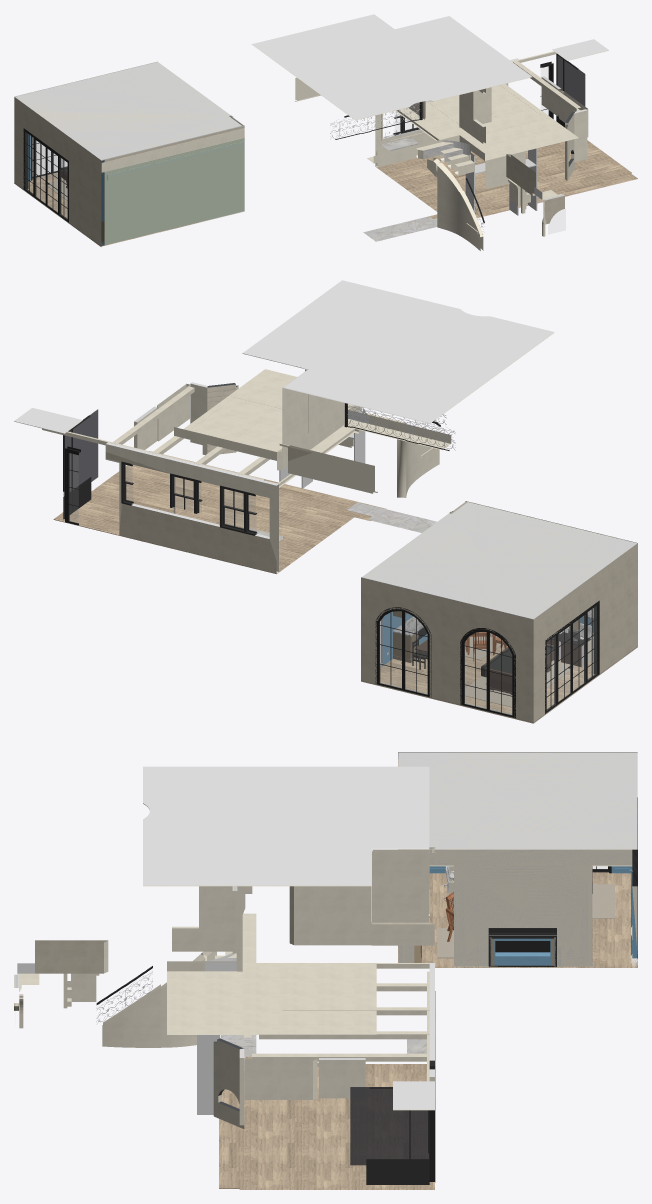
The model's file is game-room-cea6931e44c4.glb.
The picture shows the model from 3 angles, top to bottom: view 1: azimuth 30°, elevation 25°; view 2: azimuth 150°, elevation 25°; view 3: azimuth 270°, elevation 25°; orthographic projection. The views are drawn at different scales.
Visible parts, largest first — view 1: game-room-look-9d91b47435c6fb33, game-room-4a969f5cc1ae3dfe, game-room-30c5953c9ad73e5d, game-room-look-3b0077416469e01b, game-room-look-2575515a05775d9e, game-room-039192b0560cfac3, game-room-50d54560d247b537, game-room-9fbf623a647a21dd, game-room-look-8c6a7019fd0063e7, game-room-2575515a05775d9e, game-room-look-bfb9fa537cd11d1d, game-room-3b0077416469e01b (+18 smaller); view 2: game-room-look-9d91b47435c6fb33, game-room-4a969f5cc1ae3dfe, game-room-look-3b0077416469e01b, game-room-969b861f9850351e, game-room-look-bfb9fa537cd11d1d, game-room-039192b0560cfac3, game-room-look-2575515a05775d9e, game-room-50d54560d247b537, game-room-67b6630d0fa028c8, game-room-b7bc8997c06ae95e, game-room-9fbf623a647a21dd, game-room-3b0077416469e01b (+18 smaller); view 3: game-room-look-9d91b47435c6fb33, game-room-4a969f5cc1ae3dfe, game-room-look-3b0077416469e01b, game-room-3e6709f91b43c3bf, game-room-look-2575515a05775d9e, game-room-50d54560d247b537, game-room-55ff1dfd7b659ec1, game-room-look-69af8f587252f9fa, game-room-look-cbd4bf73d9724a66, game-room-3b0077416469e01b, game-room-look-32b959c9aa406288, game-room-look-8c6a7019fd0063e7 (+21 smaller).
Part boxes in pixels (bbox=[...]): game-room-look-9d91b47435c6fb33: bbox=[251, 14, 531, 120]; game-room-4a969f5cc1ae3dfe: bbox=[14, 62, 242, 160]; game-room-30c5953c9ad73e5d: bbox=[104, 126, 244, 245]; game-room-look-3b0077416469e01b: bbox=[375, 140, 637, 218]; game-room-look-2575515a05775d9e: bbox=[367, 84, 578, 163]; game-room-039192b0560cfac3: bbox=[14, 97, 104, 246]; game-room-50d54560d247b537: bbox=[14, 61, 243, 160]; game-room-9fbf623a647a21dd: bbox=[23, 128, 68, 222]; game-room-look-8c6a7019fd0063e7: bbox=[427, 157, 483, 250]; game-room-2575515a05775d9e: bbox=[101, 128, 244, 172]; game-room-look-bfb9fa537cd11d1d: bbox=[375, 58, 518, 167]; game-room-3b0077416469e01b: bbox=[14, 172, 239, 246]; game-room-look-9d91b47435c6fb33: bbox=[242, 280, 554, 423]; game-room-4a969f5cc1ae3dfe: bbox=[361, 502, 637, 619]; game-room-look-3b0077416469e01b: bbox=[53, 451, 386, 574]; game-room-969b861f9850351e: bbox=[361, 578, 529, 721]; game-room-look-bfb9fa537cd11d1d: bbox=[105, 442, 278, 573]; game-room-039192b0560cfac3: bbox=[529, 544, 637, 722]; game-room-look-2575515a05775d9e: bbox=[174, 369, 451, 460]; game-room-50d54560d247b537: bbox=[361, 502, 637, 619]; game-room-67b6630d0fa028c8: bbox=[460, 628, 515, 718]; game-room-b7bc8997c06ae95e: bbox=[375, 607, 431, 697]; game-room-9fbf623a647a21dd: bbox=[545, 600, 599, 713]; game-room-3b0077416469e01b: bbox=[361, 644, 637, 722]; game-room-look-9d91b47435c6fb33: bbox=[143, 766, 429, 886]; game-room-4a969f5cc1ae3dfe: bbox=[398, 752, 637, 849]; game-room-look-3b0077416469e01b: bbox=[219, 1056, 434, 1189]; game-room-3e6709f91b43c3bf: bbox=[398, 849, 632, 966]; game-room-look-2575515a05775d9e: bbox=[167, 913, 376, 1034]; game-room-50d54560d247b537: bbox=[398, 752, 637, 849]; game-room-55ff1dfd7b659ec1: bbox=[398, 849, 631, 967]; game-room-look-69af8f587252f9fa: bbox=[289, 886, 371, 945]; game-room-look-cbd4bf73d9724a66: bbox=[350, 1087, 429, 1165]; game-room-3b0077416469e01b: bbox=[398, 872, 637, 967]; game-room-look-32b959c9aa406288: bbox=[372, 849, 429, 922]; game-room-look-8c6a7019fd0063e7: bbox=[102, 951, 216, 1047].
Size of the model in its own units: 21.68 by 6.36 by 16.78.
Materials: 65 (17 with a texture image).
